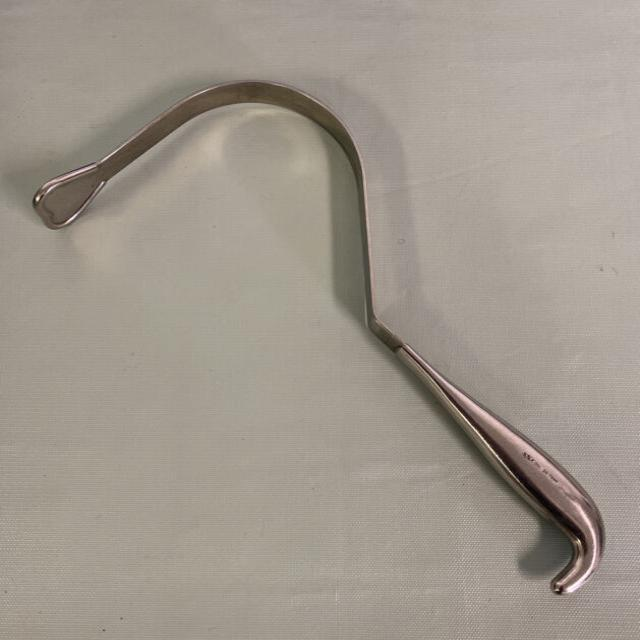Hrrington retractor: (22, 71, 610, 599)
